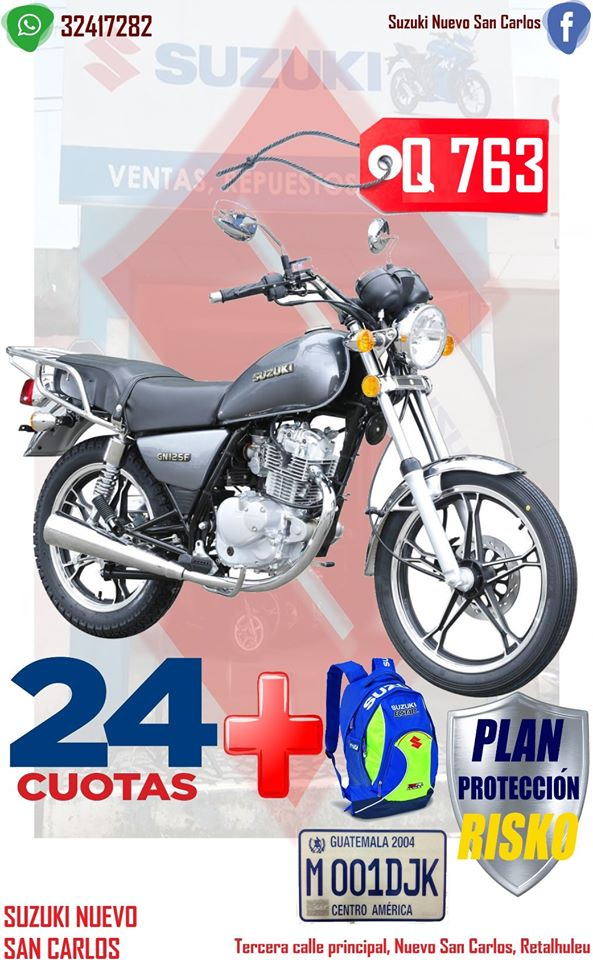moto: (5, 201, 584, 693)
